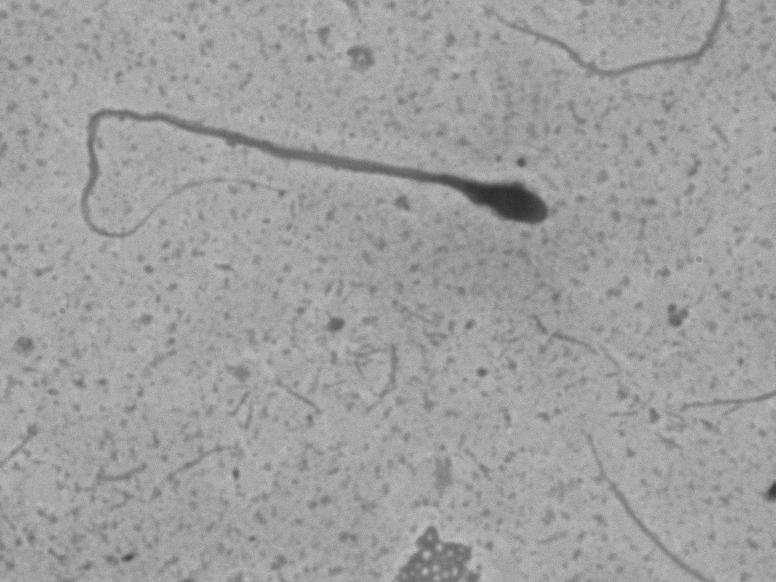Abnormal: (62, 92, 565, 276)
